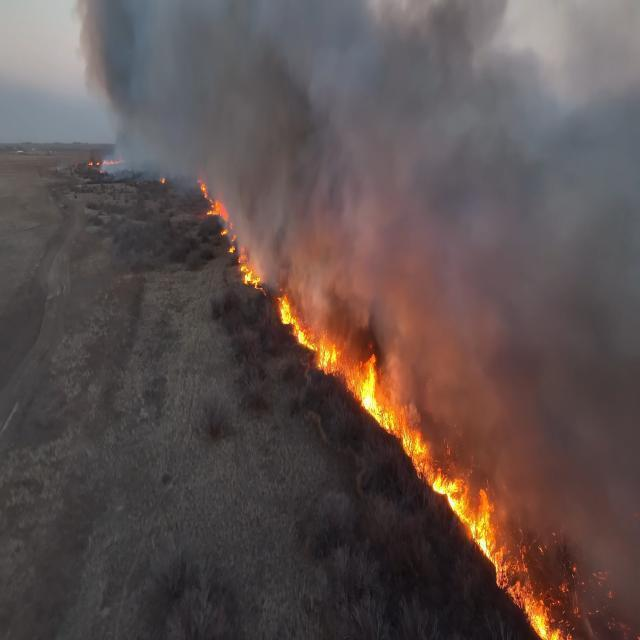Fire: (439, 458, 491, 536), (363, 358, 393, 428), (394, 412, 424, 477), (285, 297, 318, 349)
Smoke: (101, 3, 628, 181), (375, 0, 640, 304), (511, 0, 630, 507)
